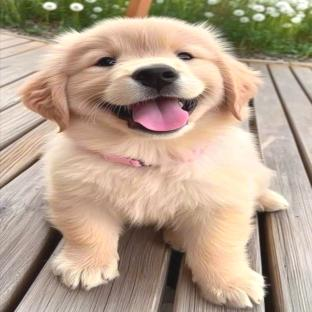Animal: (20, 18, 287, 308)
